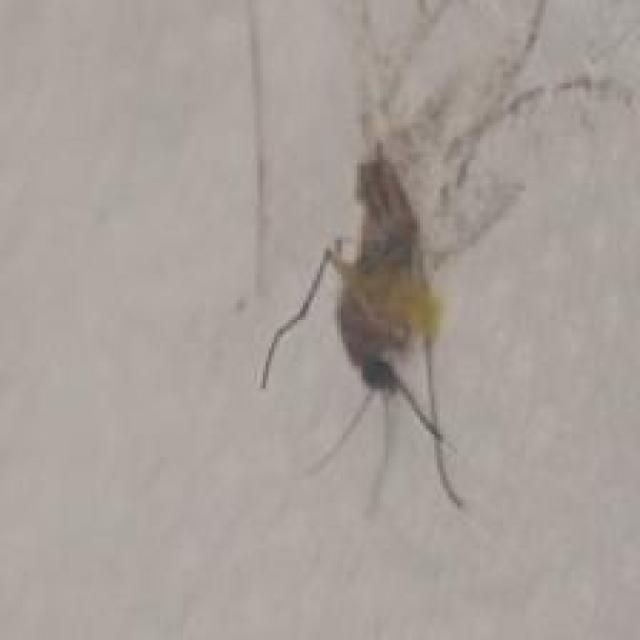Culex: (259, 135, 470, 516)
